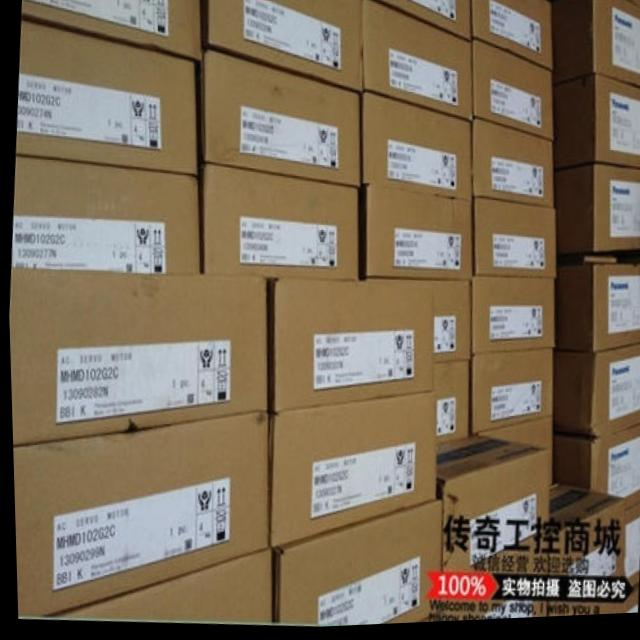box: (10, 414, 265, 618), (7, 267, 264, 445), (15, 20, 196, 176), (264, 393, 434, 549), (194, 51, 359, 189), (264, 279, 431, 415), (9, 156, 197, 275), (267, 502, 440, 628), (432, 439, 546, 614), (197, 164, 356, 281), (38, 549, 268, 625), (199, 0, 362, 97), (362, 0, 471, 126), (361, 95, 471, 205), (21, 0, 201, 62), (544, 487, 622, 622), (364, 187, 470, 284), (550, 78, 640, 176), (436, 547, 548, 625), (550, 349, 640, 443), (549, 427, 640, 518), (551, 0, 640, 93), (471, 43, 552, 145), (551, 169, 640, 256), (552, 270, 640, 357), (470, 122, 551, 213), (465, 352, 550, 437), (470, 200, 554, 283), (469, 280, 553, 358), (470, 0, 551, 74), (472, 421, 549, 491), (370, 0, 470, 46), (431, 283, 469, 366), (430, 363, 466, 449), (560, 578, 622, 621), (620, 509, 637, 601)
